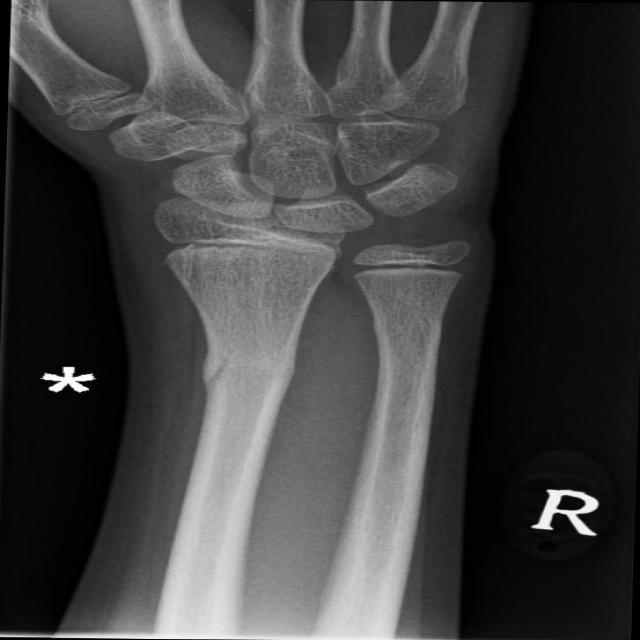Greenstick: (175, 332, 279, 411)
